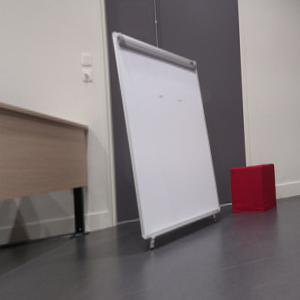big: (112, 30, 223, 248)
medium: (231, 163, 277, 212)
